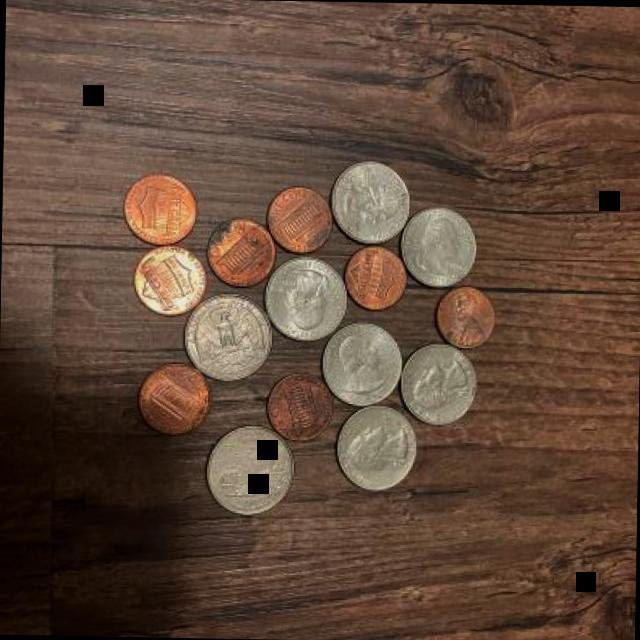Penny: (122, 168, 202, 244), (138, 360, 215, 436), (132, 240, 207, 315), (204, 215, 276, 287), (264, 368, 334, 441), (266, 182, 336, 254), (345, 243, 410, 312), (434, 282, 496, 347)
Quarter: (206, 421, 296, 518), (185, 290, 274, 379), (331, 158, 412, 249), (264, 256, 348, 342), (336, 402, 418, 490), (321, 320, 404, 405), (402, 202, 482, 286), (400, 339, 476, 424)
